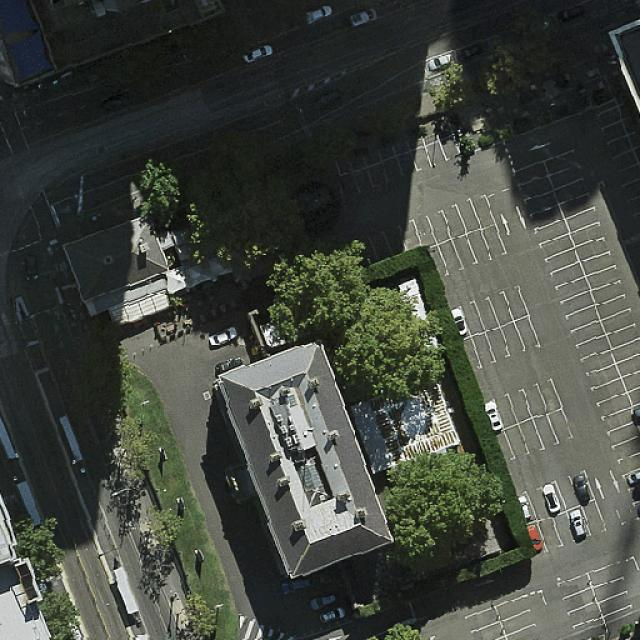Bike-Symbols: (56, 204, 73, 216), (52, 309, 64, 321)
